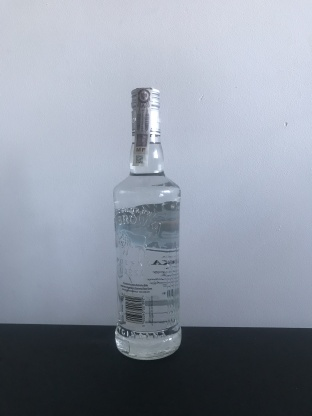nakretka: (128, 84, 163, 138)
